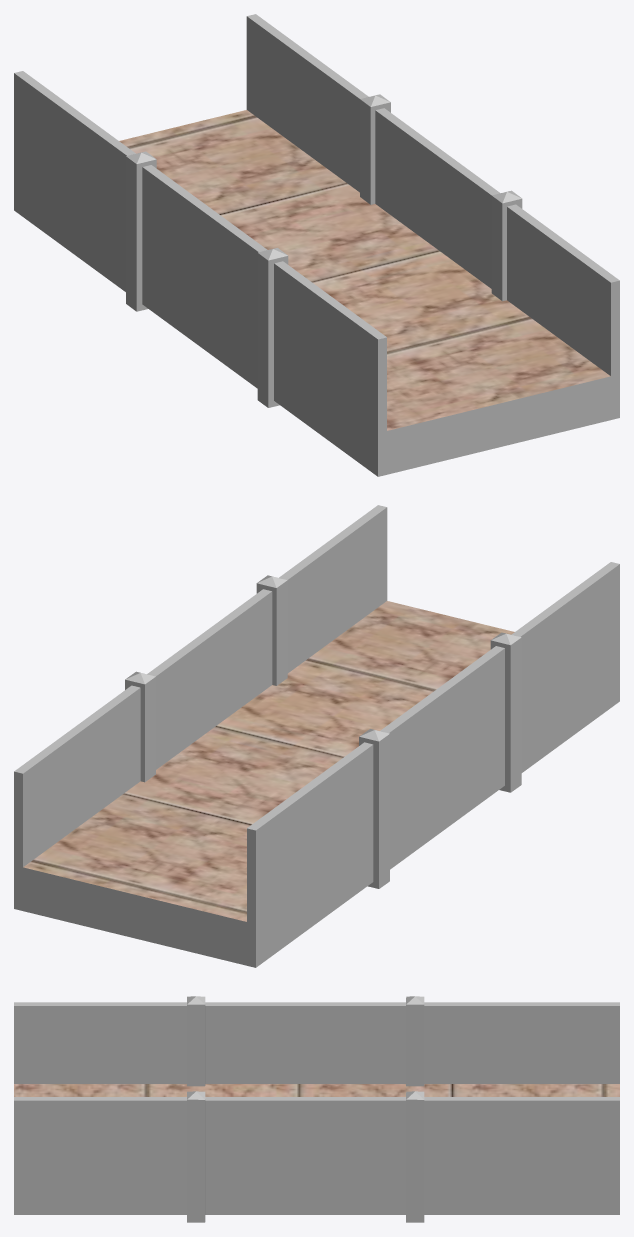
Rendered from footbridge01.fbx.
3 renders of one model, top to bottom at view 1: azimuth 30°, elevation 25°; view 2: azimuth 150°, elevation 25°; view 3: azimuth 270°, elevation 25°, orthographic. The views are drawn at different scales.
Parts seen in each view (by area): view 1: footbridge01; view 2: footbridge01; view 3: footbridge01.
Boxes of the visible parts, left/top/right/bottom form: footbridge01: left=14, top=14, right=619, bottom=476; footbridge01: left=14, top=505, right=619, bottom=967; footbridge01: left=14, top=996, right=619, bottom=1222.
Size of the model in its own units: 3.45 by 1.98 by 8.57.
